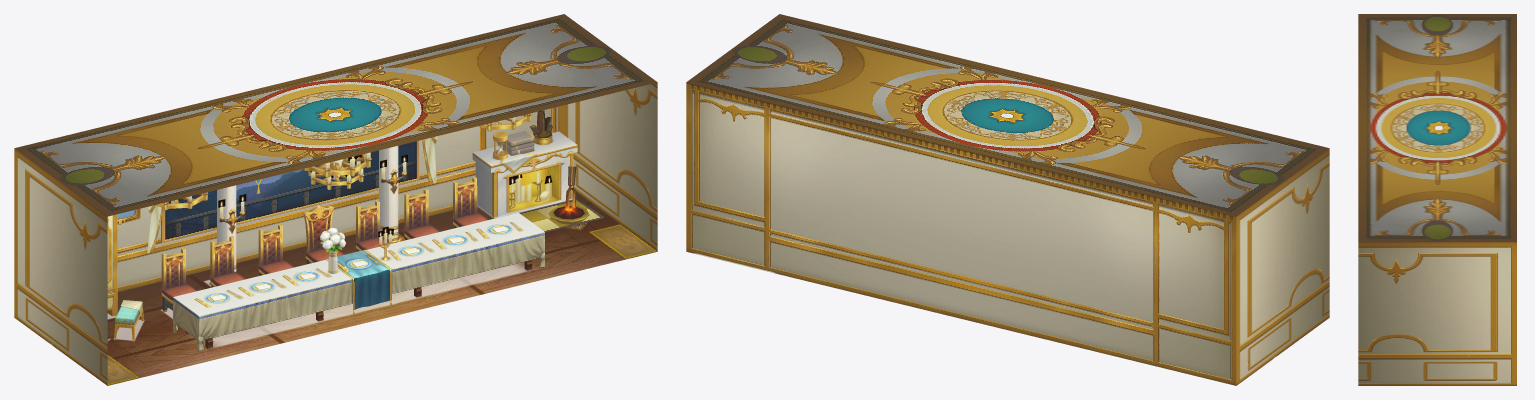
The model's file is rococo.glb.
3 views of the same model, side by side, from view 1: azimuth 30°, elevation 25°; view 2: azimuth 150°, elevation 25°; view 3: azimuth 270°, elevation 25° (orthographic). The views are drawn at different scales.
Visible parts, largest first — view 1: ROOM_room, furni_rococo_table_01, ROOM_floor, furni_rococo_observationDeck_01, furni_rococo_fireplace_01, shadow.002, furni_rococo_table_03, furni_rococo_pillar_01.001, ROOM_LDoor, ROOM_RDoor, furni_rococo_ceilingLight1_01, furni_rococo_secondarySeat_01.004 (+15 smaller); view 2: ROOM_room, ROOM_LDoor; view 3: ROOM_room, ROOM_RDoor.
Boxes of the visible parts, <box> form: ROOM_room: <box>14,14,657,385</box>; furni_rococo_table_01: <box>173,212,544,351</box>; ROOM_floor: <box>107,192,657,385</box>; furni_rococo_observationDeck_01: <box>161,140,419,242</box>; furni_rococo_fireplace_01: <box>472,110,577,218</box>; shadow.002: <box>203,263,530,347</box>; furni_rococo_table_03: <box>194,222,523,307</box>; furni_rococo_pillar_01.001: <box>379,146,406,243</box>; ROOM_LDoor: <box>74,285,93,375</box>; ROOM_RDoor: <box>625,151,643,240</box>; furni_rococo_ceilingLight1_01: <box>304,152,371,189</box>; furni_rococo_secondarySeat_01.004: <box>161,247,197,313</box>; ROOM_room: <box>686,14,1329,385</box>; ROOM_LDoor: <box>1297,251,1315,341</box>; ROOM_room: <box>1358,14,1516,385</box>; ROOM_RDoor: <box>1381,320,1414,385</box>.
Size of the model in its own units: 7.53 by 2.2 by 2.25.
Materials: 6 (6 with a texture image).
